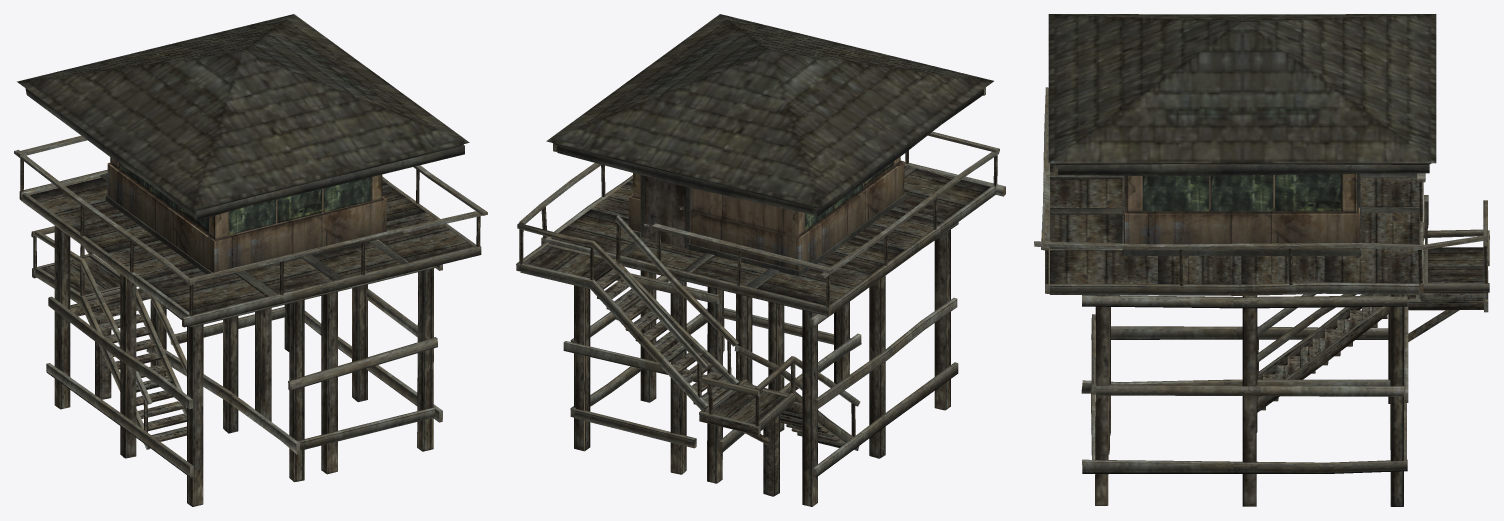
Rendered from Tower.obj.
3 renders of one model, left to right at view 1: azimuth 30°, elevation 25°; view 2: azimuth 150°, elevation 25°; view 3: azimuth 270°, elevation 25°, orthographic. The views are drawn at different scales.
Parts seen in each view (by area): view 1: __PrenotatoPerDuplicare_0, ShapeHiddenFacesSet defaultHideFaceDataSet __PrenotatoPerDuplica; view 2: __PrenotatoPerDuplicare_0, ShapeHiddenFacesSet defaultHideFaceDataSet __PrenotatoPerDuplica; view 3: __PrenotatoPerDuplicare_0, ShapeHiddenFacesSet defaultHideFaceDataSet __PrenotatoPerDuplica.
Part boxes in pixels (<box>): __PrenotatoPerDuplicare_0: <box>14,14,487,506</box>; ShapeHiddenFacesSet defaultHideFaceDataSet __PrenotatoPerDuplica: <box>46,286,442,477</box>; __PrenotatoPerDuplicare_0: <box>516,14,1005,506</box>; ShapeHiddenFacesSet defaultHideFaceDataSet __PrenotatoPerDuplica: <box>563,275,958,477</box>; __PrenotatoPerDuplicare_0: <box>1034,14,1489,506</box>; ShapeHiddenFacesSet defaultHideFaceDataSet __PrenotatoPerDuplica: <box>1081,301,1408,473</box>.
Size of the model in its own units: 544 by 655 by 649.
